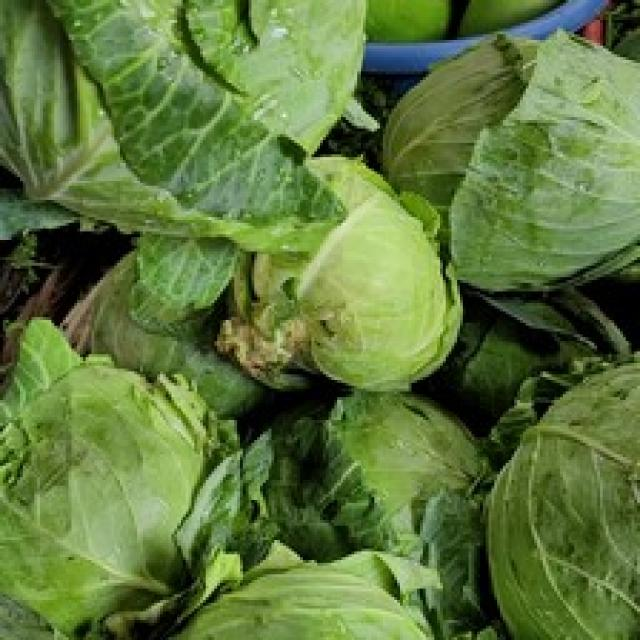Cabbage: (0, 0, 637, 637), (383, 46, 640, 277)
